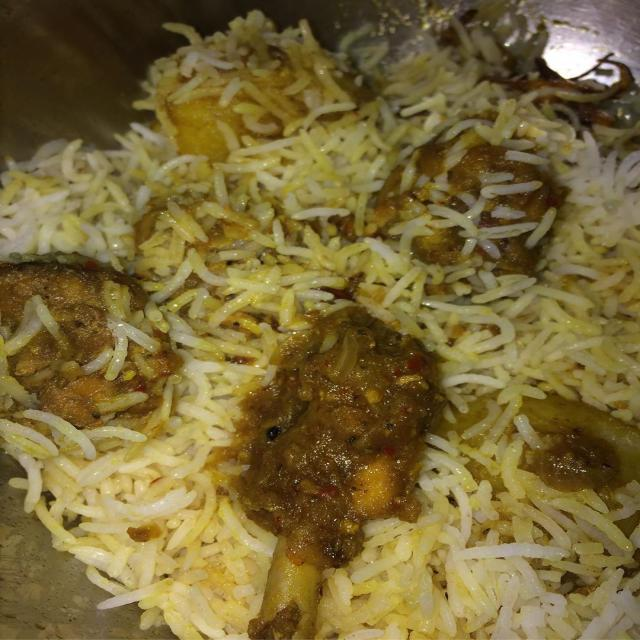biryani: (10, 50, 612, 640)
